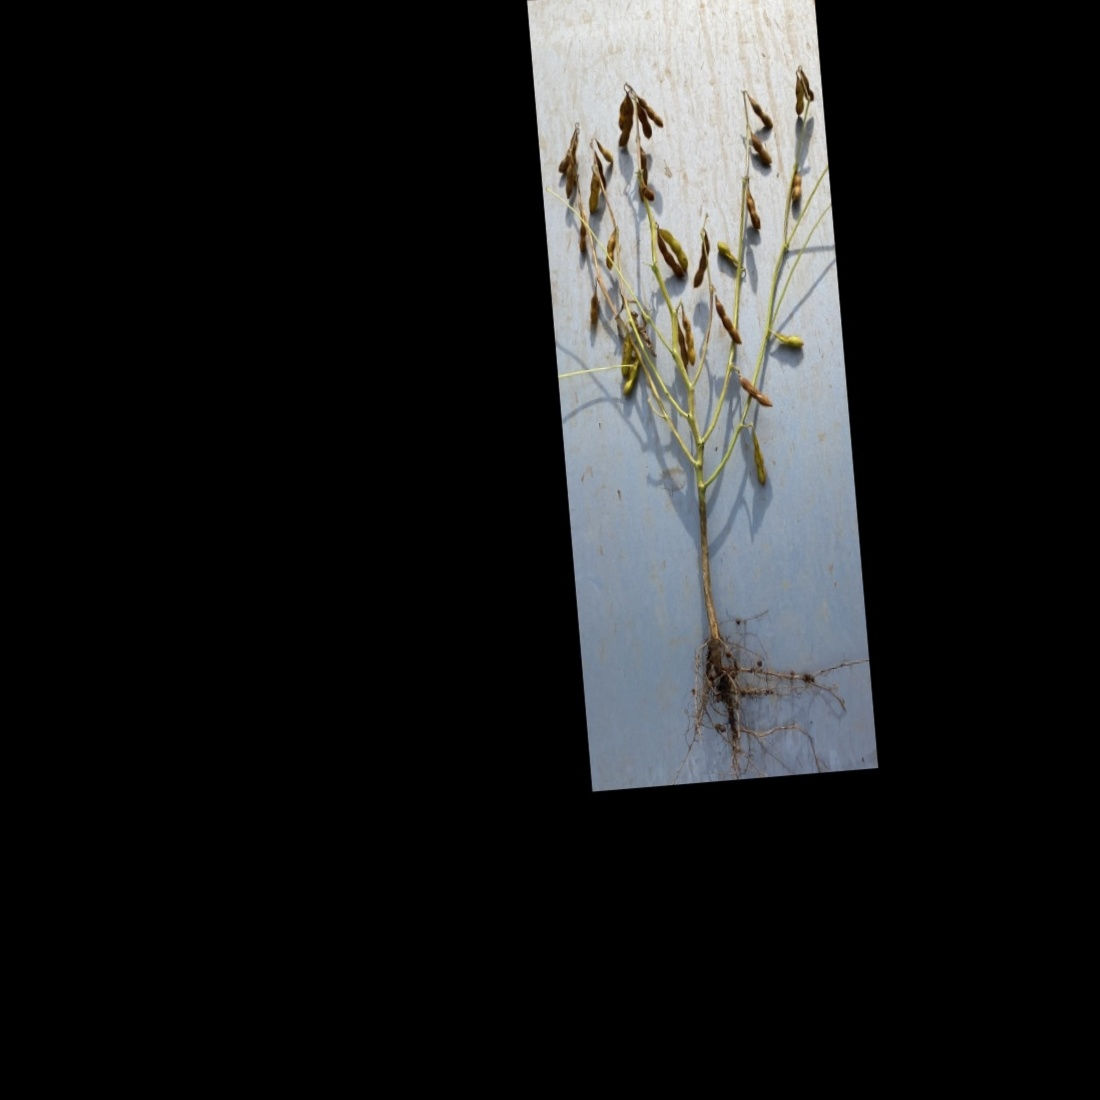pod: (683, 223, 720, 298), (648, 223, 686, 287), (653, 223, 694, 281), (746, 423, 773, 488), (633, 87, 666, 135), (712, 298, 744, 347), (631, 96, 658, 147), (580, 165, 604, 222), (746, 88, 776, 134), (738, 374, 777, 408), (737, 183, 763, 235), (583, 283, 604, 331), (748, 134, 776, 169), (680, 318, 699, 367), (602, 231, 620, 272), (576, 221, 592, 263), (791, 173, 810, 203)
soy: (541, 21, 865, 739)
